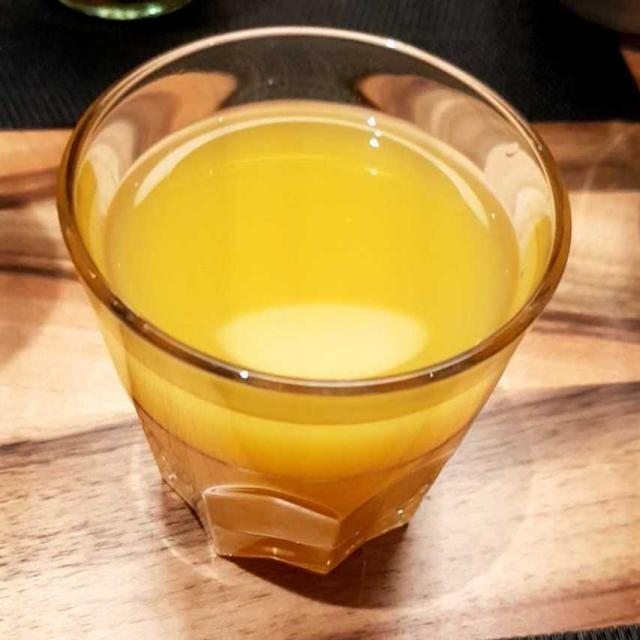juice: (108, 113, 529, 386)
